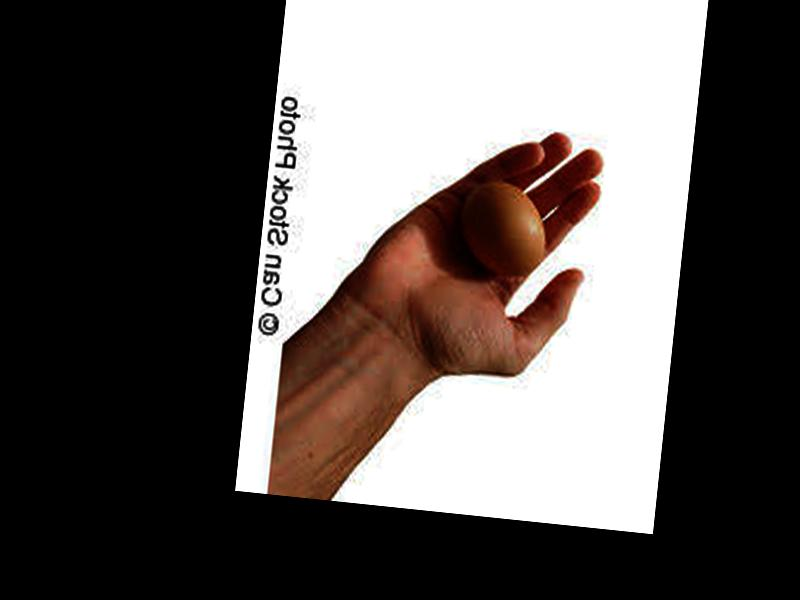Eggs: (457, 176, 548, 275)
